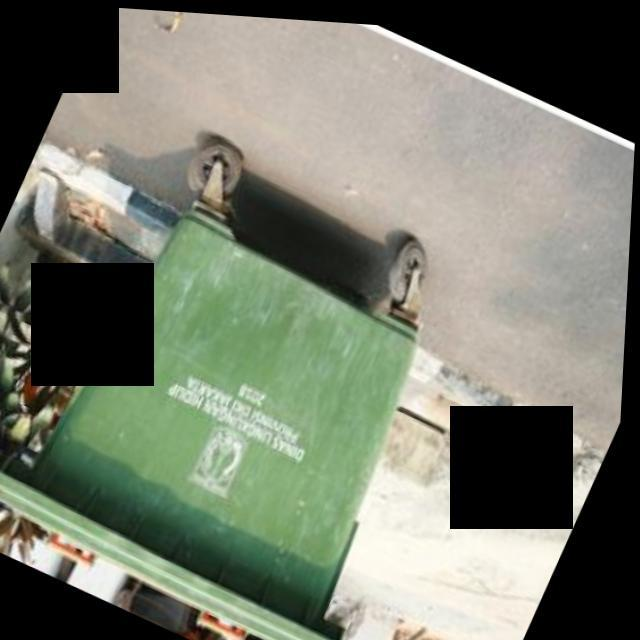bin: (0, 84, 535, 640)
